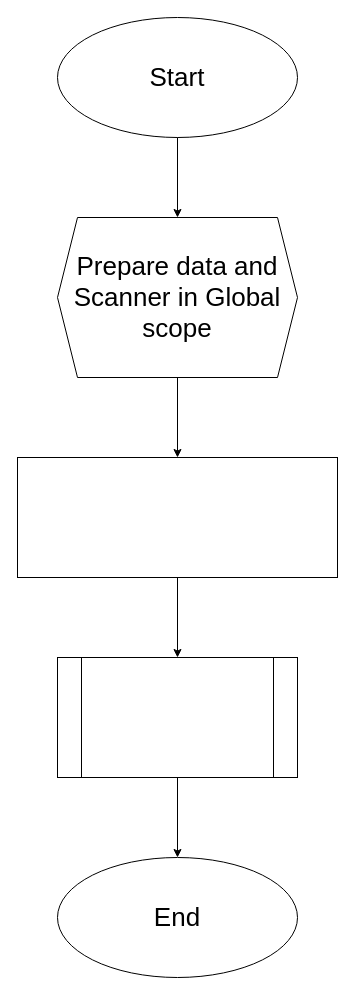
The diagram is 355 pixels wide and 995 high, and some of its shapes have lost their labels. Each missing label, with the centre of its shape:
credential[0][0] = "admin" credential[0][0] = "admin": point 177,517
loginMenu(): point 177,717
